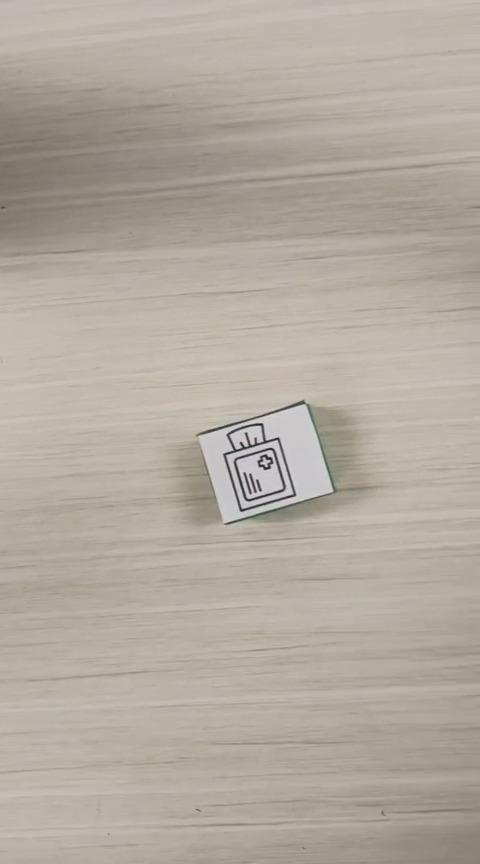Gauze: (194, 398, 335, 525)
